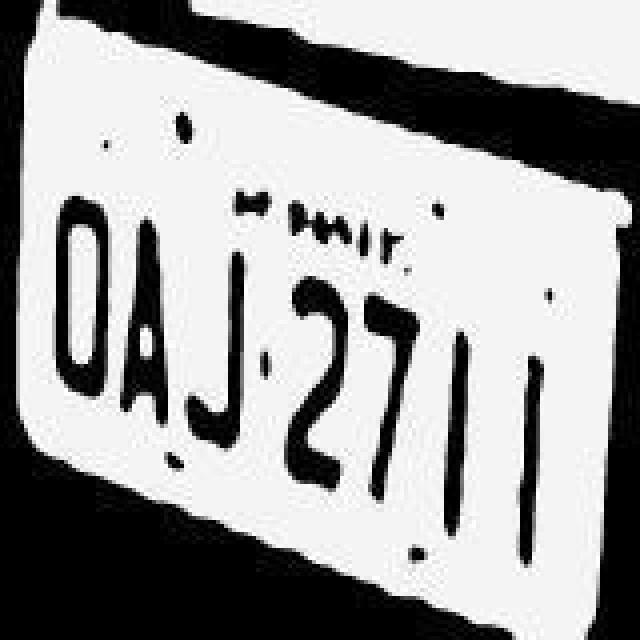1: (502, 330, 554, 598), (430, 306, 482, 566)
2: (280, 266, 360, 510)
7: (356, 278, 428, 522)
A: (110, 186, 178, 446)
J: (180, 238, 252, 458)
O: (44, 174, 116, 434)
